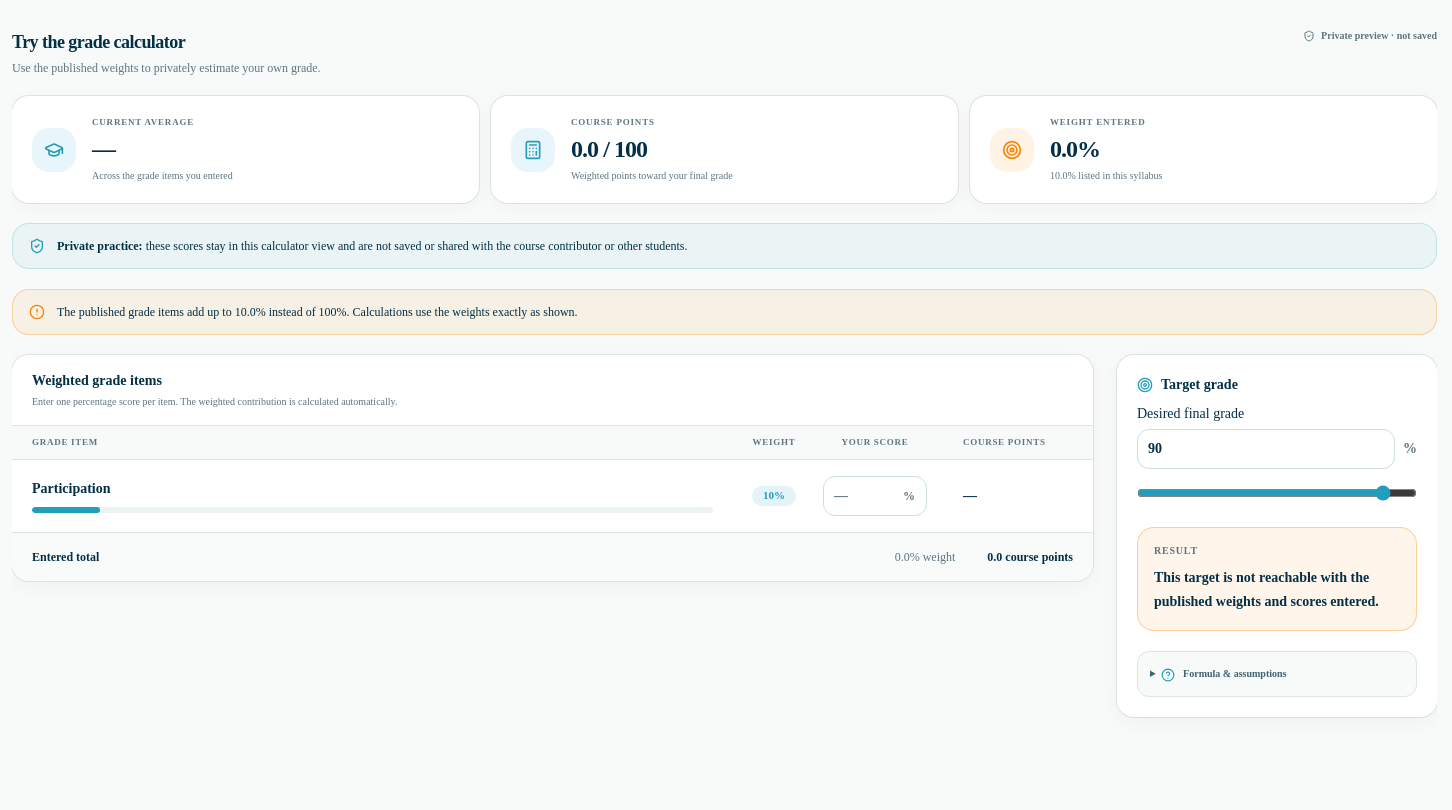
percentage grade entry › keeps Community score experiments local and unsaved
This screenshot has width=1452, height=810.
Step 1. Type "100" into the field named "Participation score percent" → (875, 496), box [823,476,927,516]
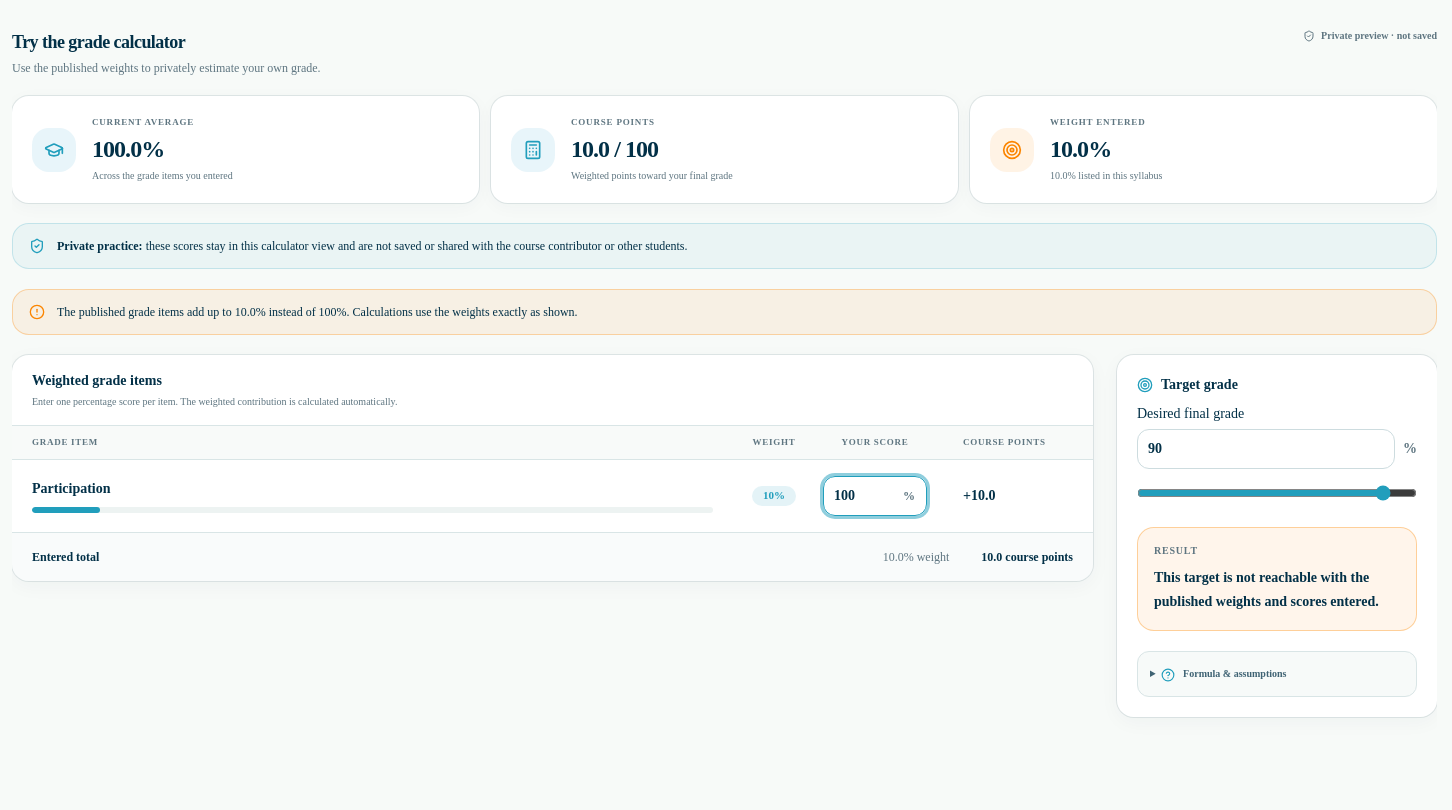
Check: the text "Private preview · not saved" is shown, box [1303,28,1437,43]
Check: the text "+10.0" is shown, box [963,488,996,503]
